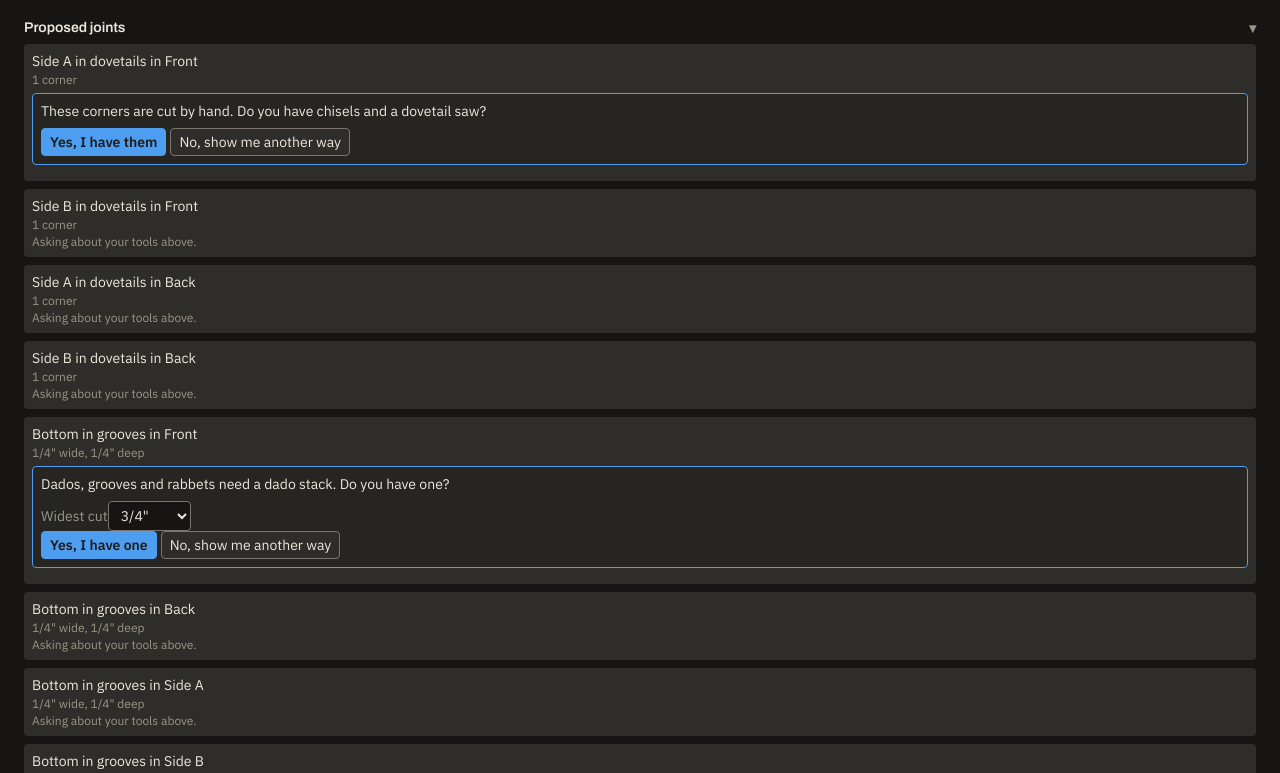
Test: the Joinery step › with a shop never told about its tools › asks about hand tools for the box's dovetailed corners, and says what Kerf plans
The width and height of the screenshot is (1280, 773).
Expected: the text "These corners are cut by hand. Do you have chisels and a dovetail saw?" is shown once, [41,102,486,120]
Click the button "Yes, I have them".
click(104, 142)  # box [41,128,166,156]
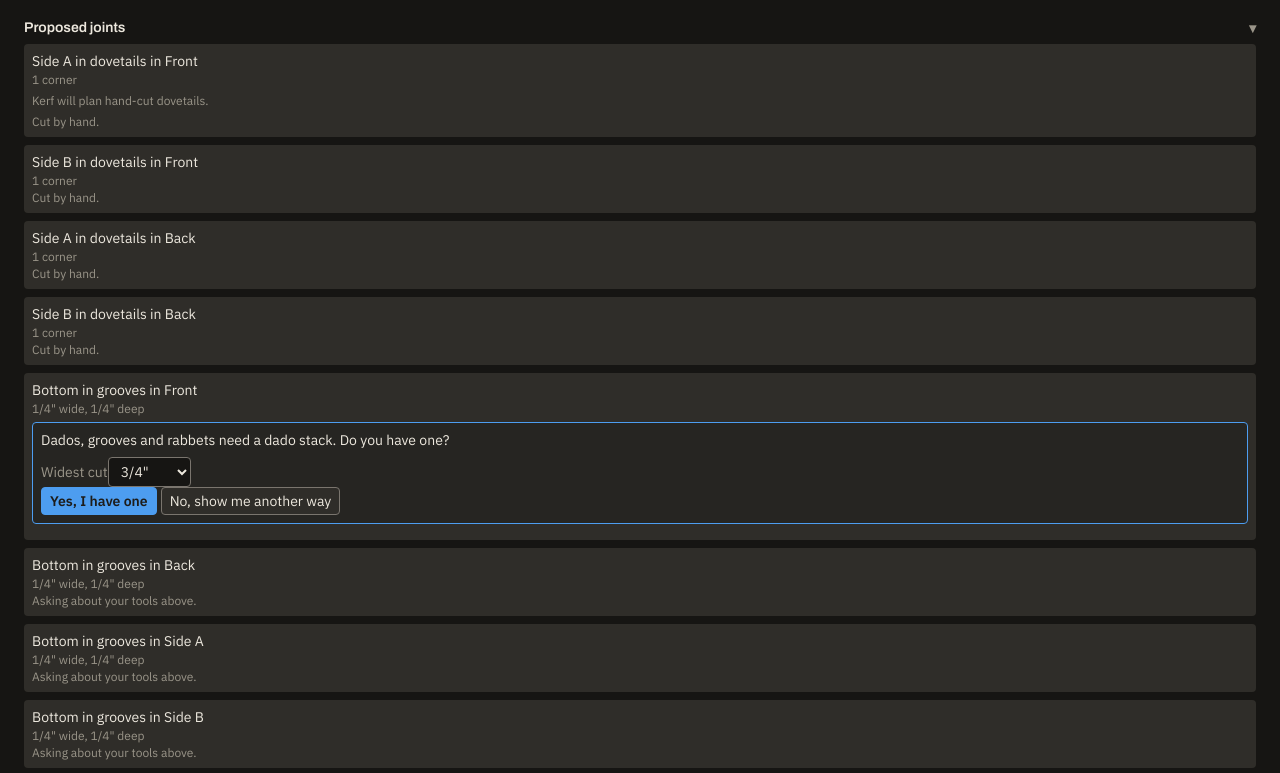
Now the message reads "Kerf will plan hand-cut dovetails.", box [32,93,209,108]
